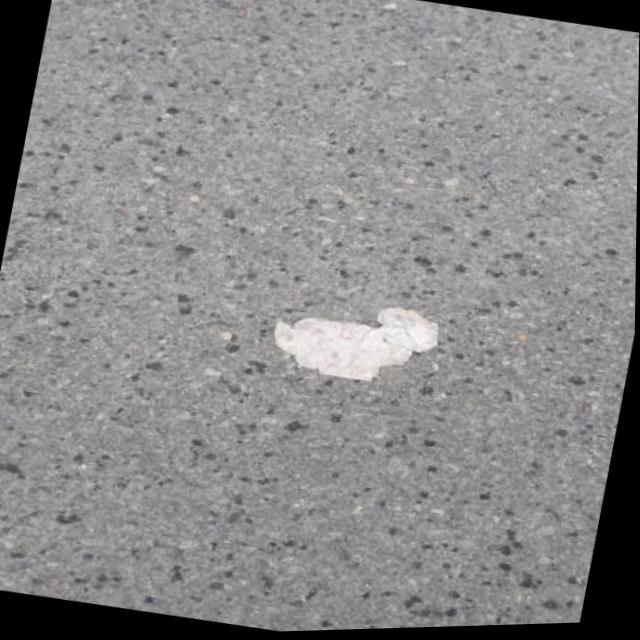other: (230, 264, 338, 441)
